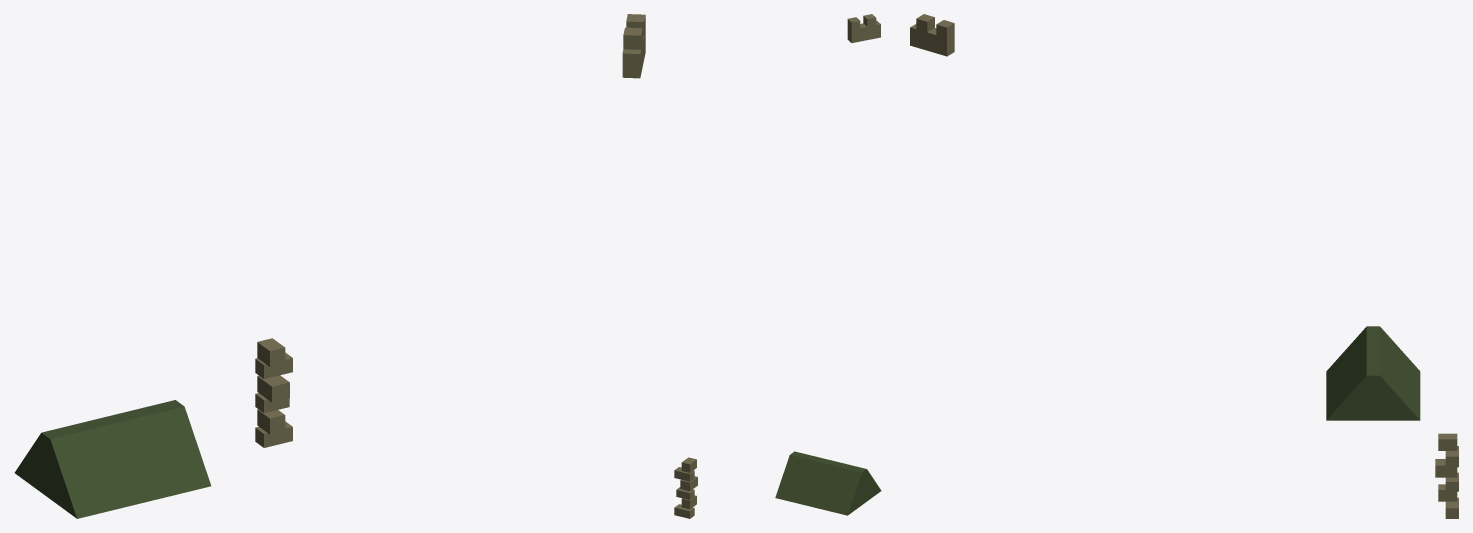
The picture shows the model from 3 angles, left to right: view 1: azimuth 30°, elevation 25°; view 2: azimuth 150°, elevation 25°; view 3: azimuth 270°, elevation 25°; orthographic projection. The views are drawn at different scales.
Parts seen in each view (by area): view 1: Object203_roof1_0, Box15355_rock2_0; view 2: Object203_roof1_0, Box15355_rock2_0, Object280_rock2_0; view 3: Object203_roof1_0, Box15355_rock2_0, Object280_rock2_0.
Boxes of the visible parts, x1=… form: Object203_roof1_0: x1=14, y1=400, x2=211, y2=518; Box15355_rock2_0: x1=255, y1=338, x2=292, y2=447; Object203_roof1_0: x1=775, y1=451, x2=881, y2=515; Box15355_rock2_0: x1=674, y1=457, x2=697, y2=518; Object280_rock2_0: x1=847, y1=20, x2=880, y2=42; Object203_roof1_0: x1=1326, y1=326, x2=1420, y2=420; Box15355_rock2_0: x1=1435, y1=433, x2=1458, y2=518; Object280_rock2_0: x1=910, y1=24, x2=954, y2=56.
Bounding box in the file's own units: 817 × 1644 × 1640.
